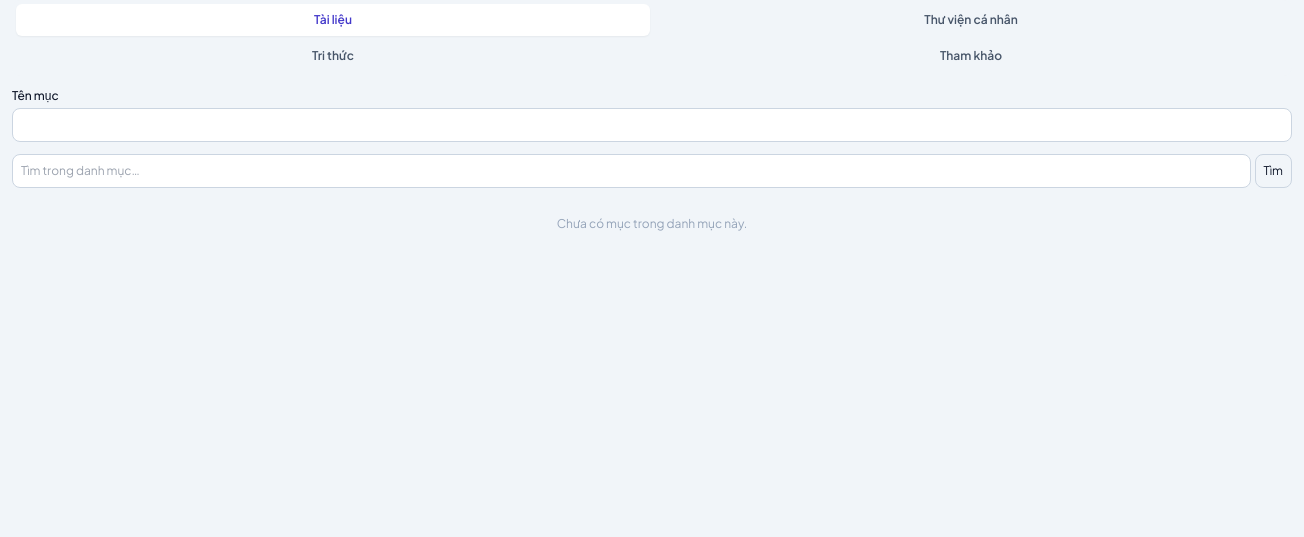
personal Drive storage controls › writes Knowledge only after the explicit save action and keeps personal templates separately named
The width and height of the screenshot is (1304, 537).
Click the tab "Tri thức": (333, 56) [16,40,650,72]
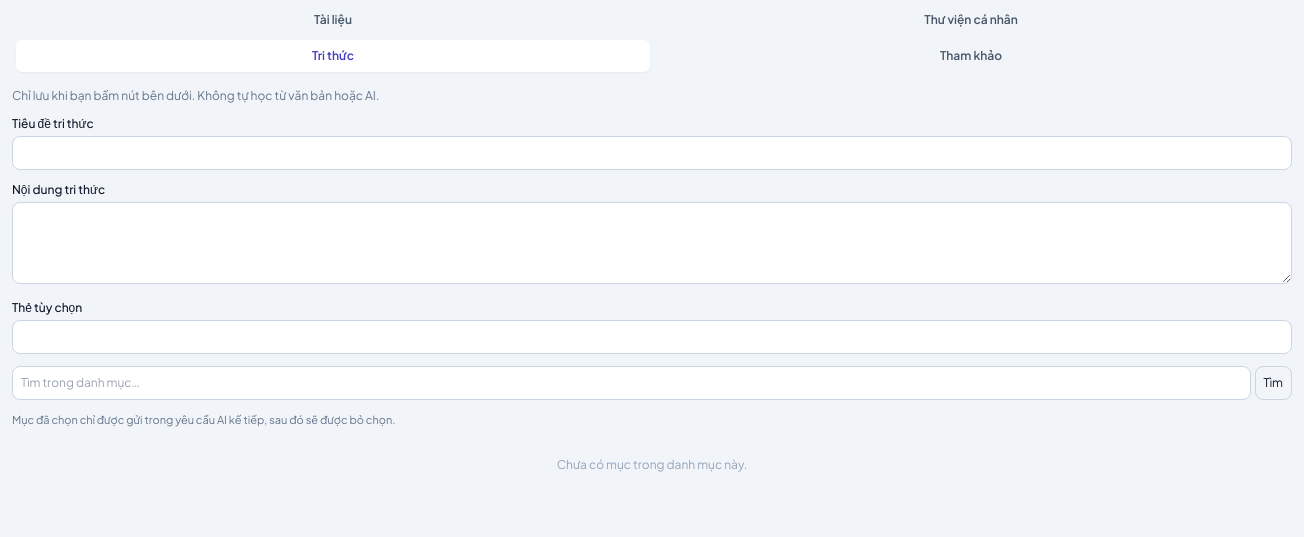
In the field labelled "Tiêu đề tri thức": (652, 153) [12,136,1292,170], type "Rule"
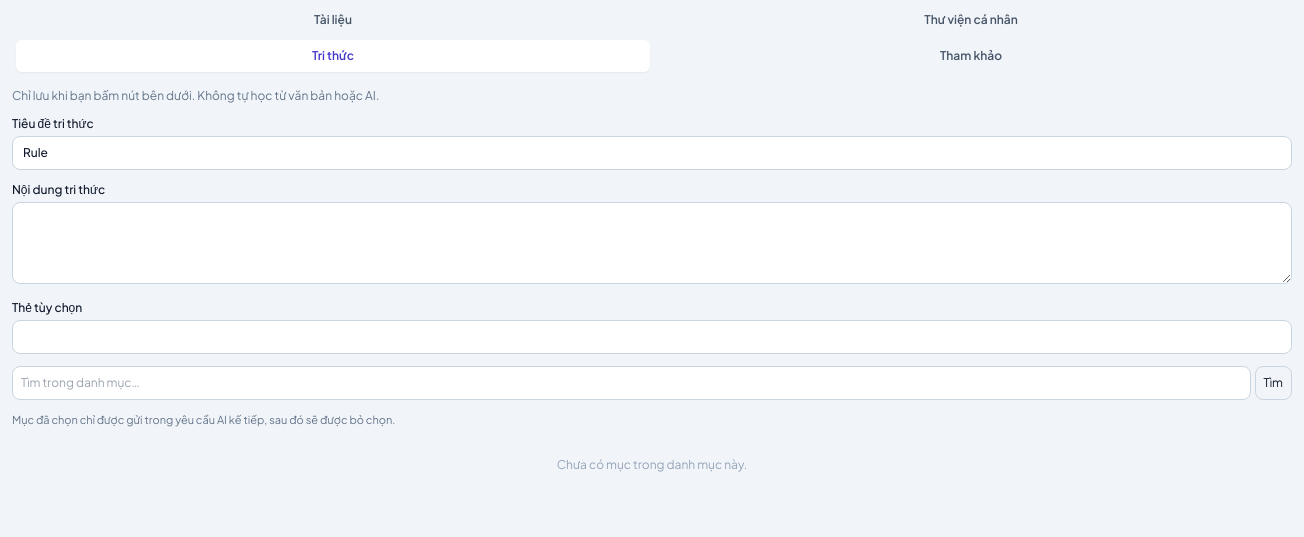
In the text box labelled "Nội dung tri thức": (652, 243) [12,202,1292,284], type "Chosen content"
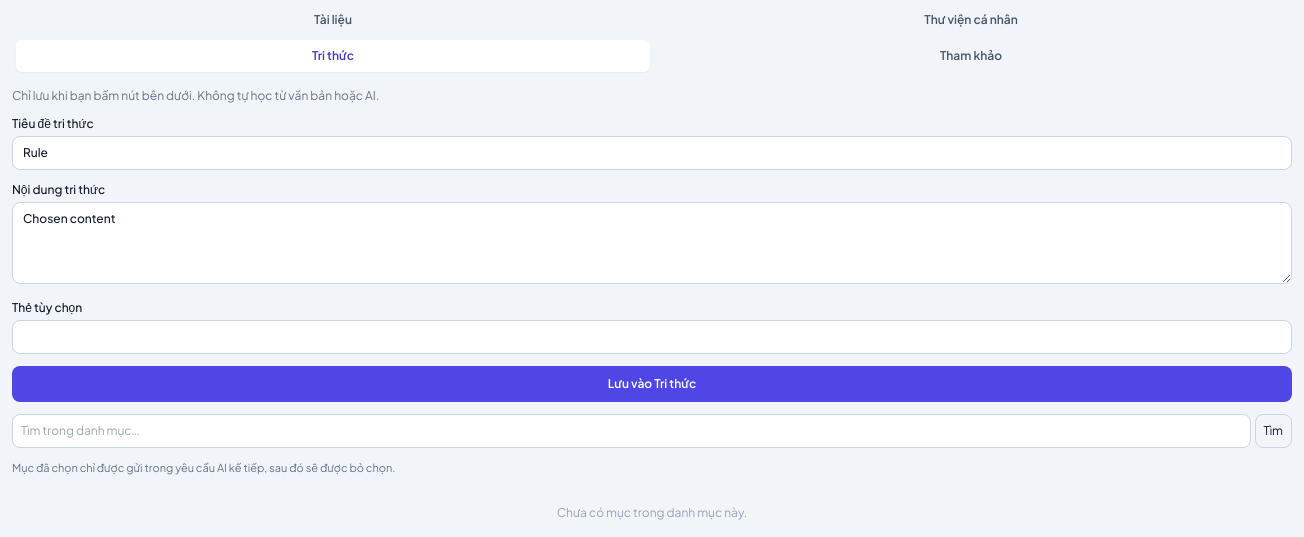
Click the button "Lưu vào Tri thức": (652, 384) [12,366,1292,402]
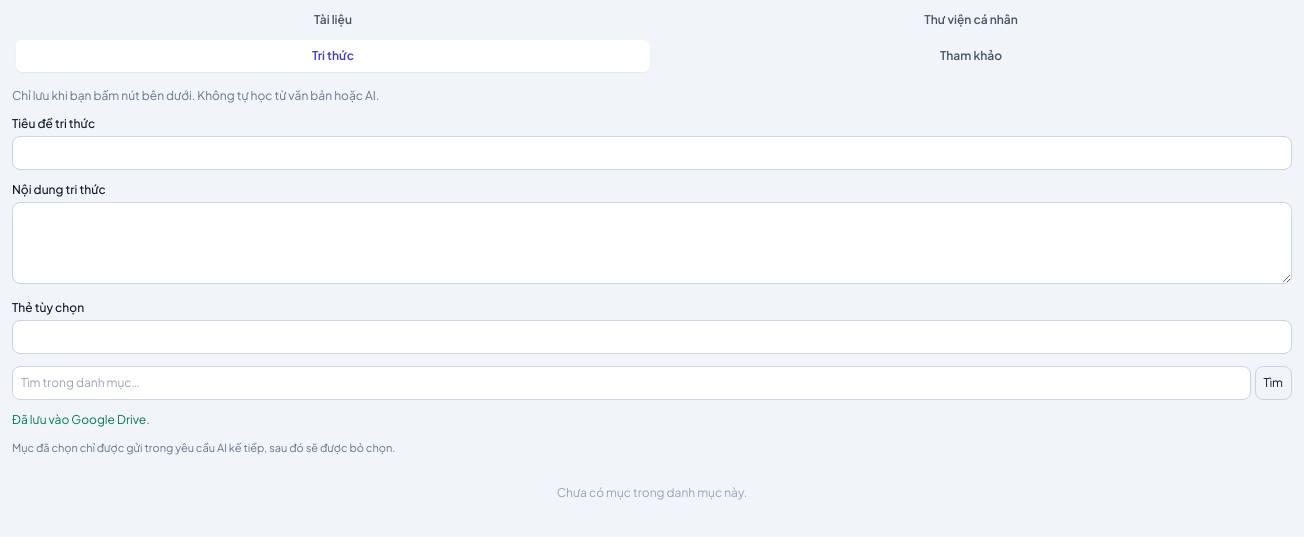
Click the tab "Thư viện cá nhân": (971, 20) [654,4,1288,36]
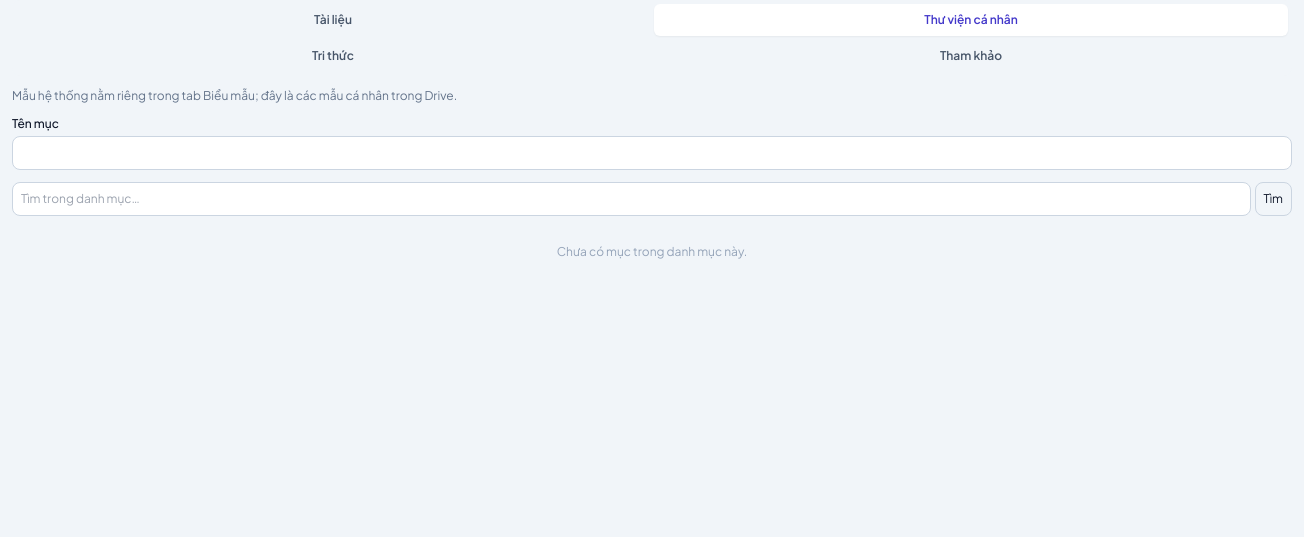
expect the text "Mẫu hệ thống" is shown: met, box [12,88,457,103]
